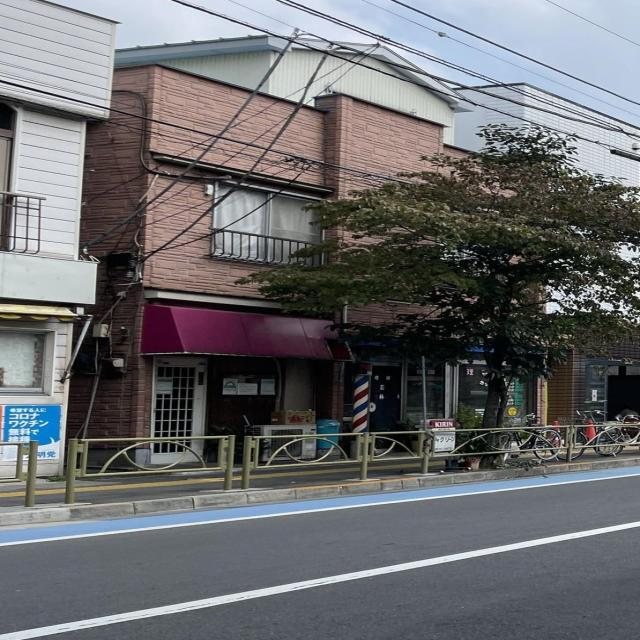dogwood: (232, 122, 640, 470)
